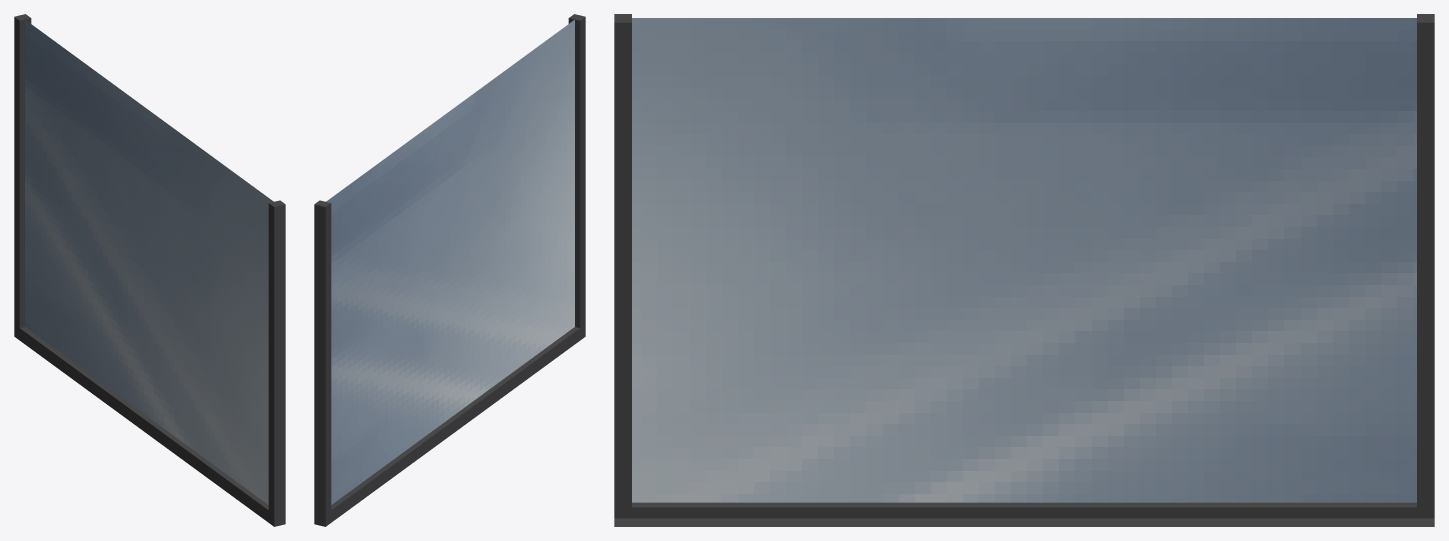
File: keep-wd01_61.obj
3 renders of one model, left to right at view 1: azimuth 30°, elevation 25°; view 2: azimuth 150°, elevation 25°; view 3: azimuth 270°, elevation 25°, orthographic. The views are drawn at different scales.
Size of the model in its own units: 0.03 by 0.8047 by 1.19.
Materials: 1 (1 with a texture image).
